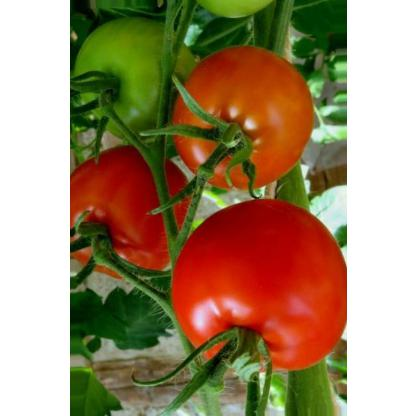tomato: (156, 191, 341, 381), (162, 41, 320, 203), (68, 132, 198, 288), (72, 10, 204, 145)
